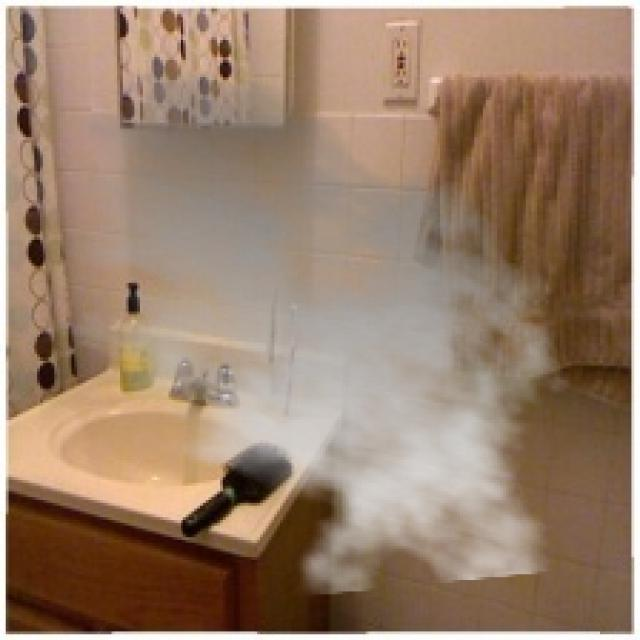Smoke: (20, 62, 589, 598)
